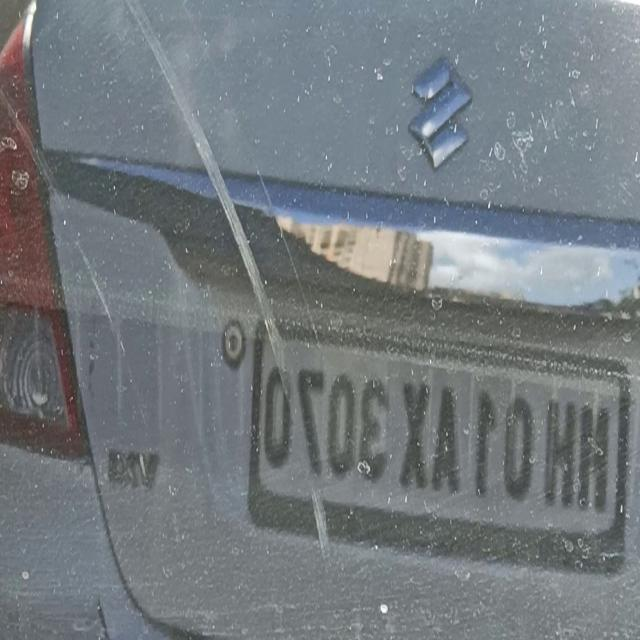license_plate: (245, 310, 632, 580)
